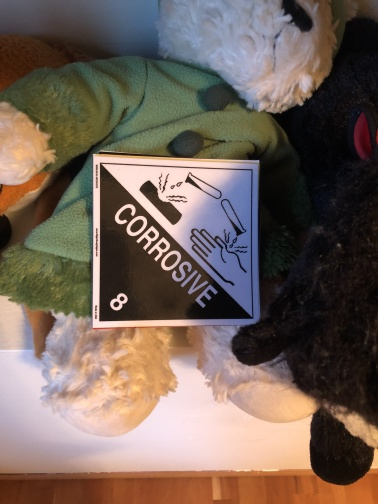Corrosive: (94, 155, 255, 325)
